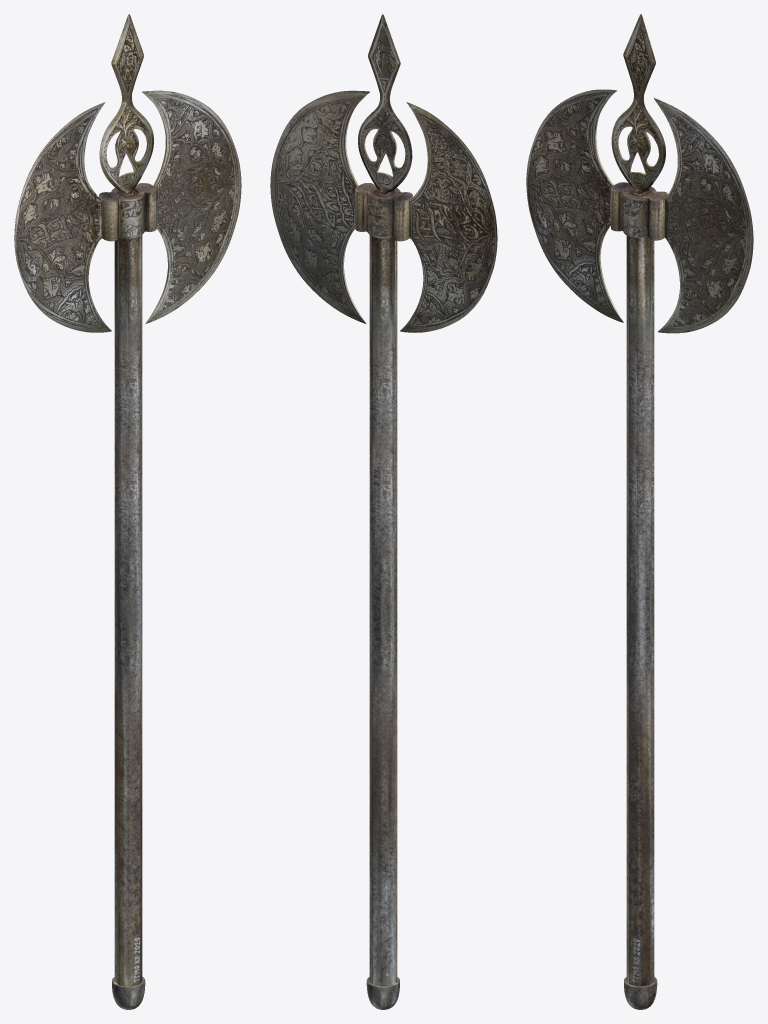
File: axe.glb
3 renders of one model, left to right at view 1: azimuth 30°, elevation 25°; view 2: azimuth 150°, elevation 25°; view 3: azimuth 330°, elevation 25°, orthographic.
Parts seen in each view (by area): view 1: t5-axe-part-2, t5-axe-part-1, t5-axe-part-0; view 2: t5-axe-part-2, t5-axe-part-1, t5-axe-part-0; view 3: t5-axe-part-2, t5-axe-part-1, t5-axe-part-0.
Boxes of the visible parts, x1=… form: t5-axe-part-2: x1=99, y1=14, x2=153, y2=1009; t5-axe-part-1: x1=14, y1=90, x2=238, y2=329; t5-axe-part-0: x1=14, y1=91, x2=241, y2=332; t5-axe-part-2: x1=358, y1=14, x2=412, y2=1009; t5-axe-part-1: x1=273, y1=90, x2=497, y2=329; t5-axe-part-0: x1=270, y1=91, x2=497, y2=332; t5-axe-part-2: x1=611, y1=14, x2=665, y2=1009; t5-axe-part-1: x1=529, y1=89, x2=753, y2=330; t5-axe-part-0: x1=526, y1=89, x2=753, y2=333.
Size of the model in its own units: 0.3888 by 1.63 by 0.0502.
2 materials, 2 textured.
